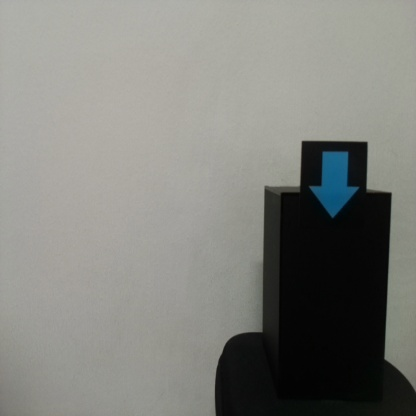id_2: (301, 141, 367, 228)
